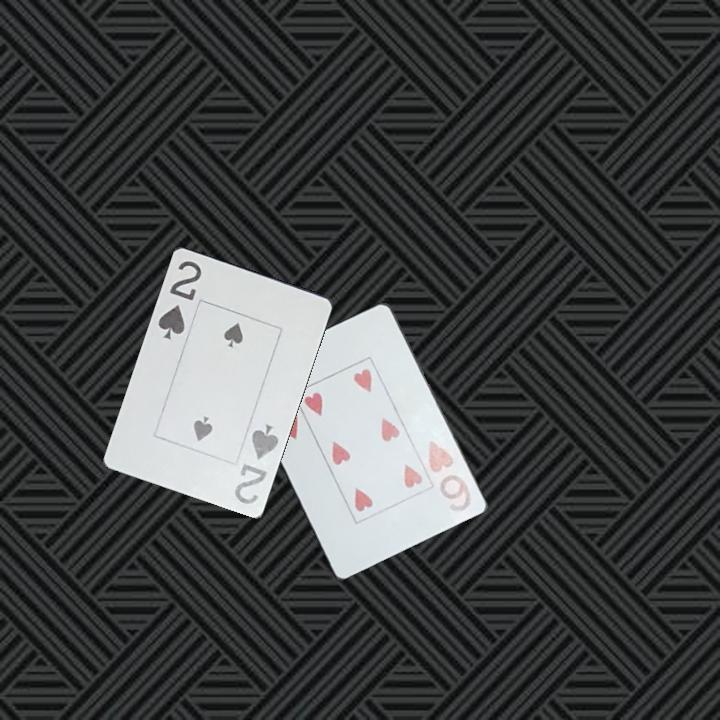2s: (230, 420, 281, 507), (153, 257, 204, 342)
6h: (425, 434, 477, 515)
